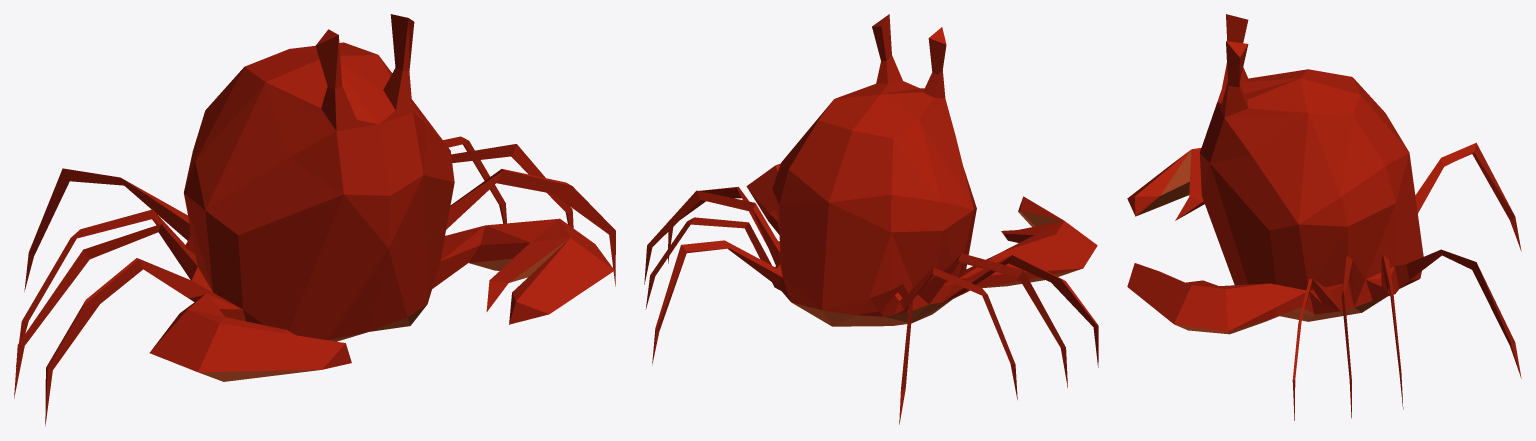
The model's file is Crab.obj.
The picture shows the model from 3 angles, left to right: view 1: azimuth 30°, elevation 25°; view 2: azimuth 150°, elevation 25°; view 3: azimuth 270°, elevation 25°; orthographic projection. The views are drawn at different scales.
Visible parts, largest first — view 1: Crab_CrabMesh; view 2: Crab_CrabMesh; view 3: Crab_CrabMesh.
Part boxes in pixels (left/top/right/bottom): Crab_CrabMesh: left=14, top=14, right=615, bottom=425; Crab_CrabMesh: left=644, top=14, right=1098, bottom=424; Crab_CrabMesh: left=1127, top=14, right=1521, bottom=420.
Size of the model in its own units: 0.9475 by 0.577 by 0.713.
